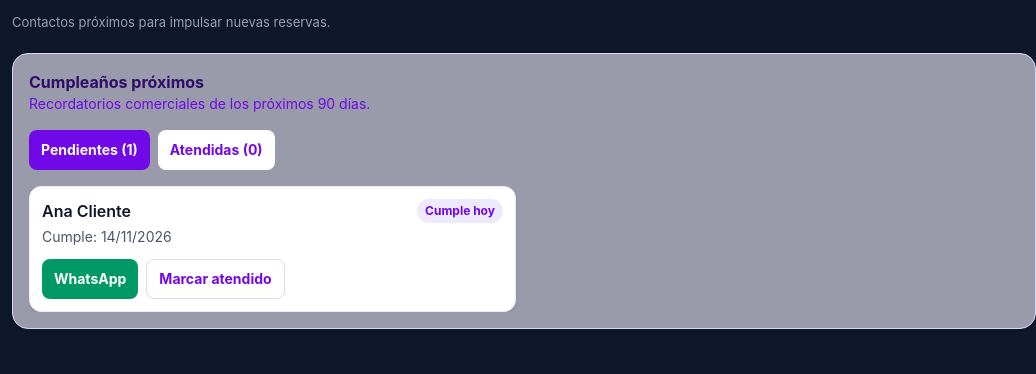
Test case: OportunidadesPage › keeps the card and allows retry when marking attended fails
Click the button named "Marcar como atendida la oportunidad de cumpleaños de Ana Cliente".
click(215, 278)  # box [146, 258, 285, 298]
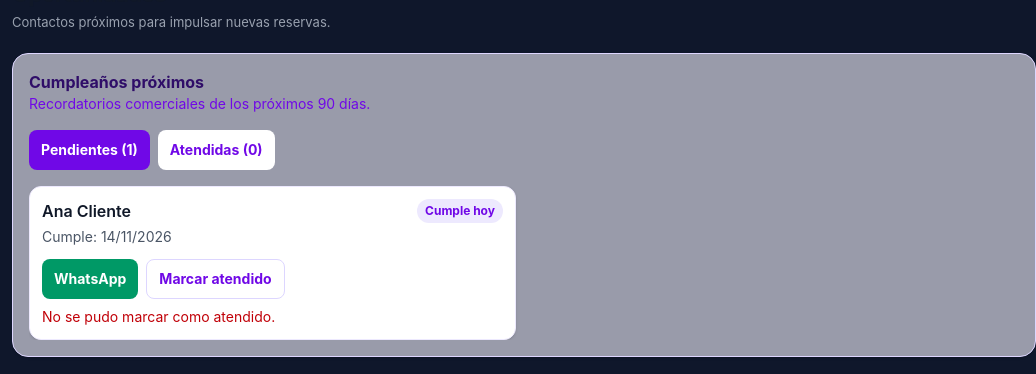
Expected: the element with test id "cumpleanios-1" is shown, [29, 186, 516, 340]
Now the text "No se pudo marcar como atendido." is shown, box [42, 308, 275, 324]
Click the button named "Marcar como atendida la oportunidad de cumpleaños de Ana Cliente".
click(215, 278)  # box [146, 258, 285, 298]
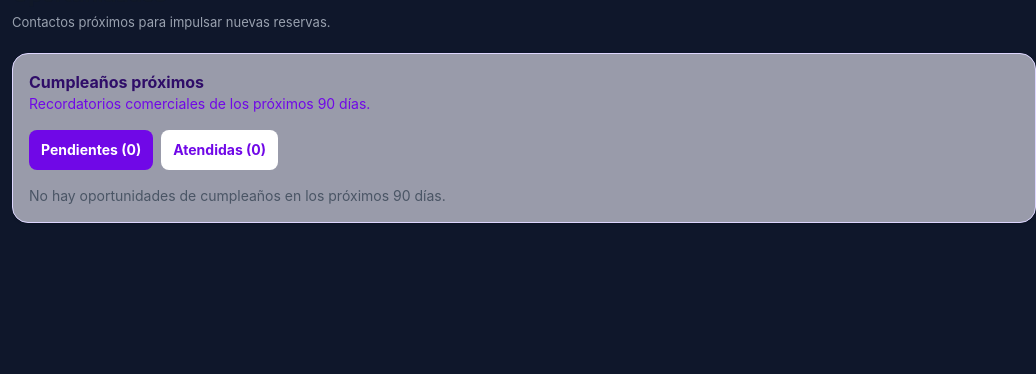
Now the text "No hay oportunidades de cumpleaños en los próximos 90 días." is shown, box [29, 186, 446, 204]
